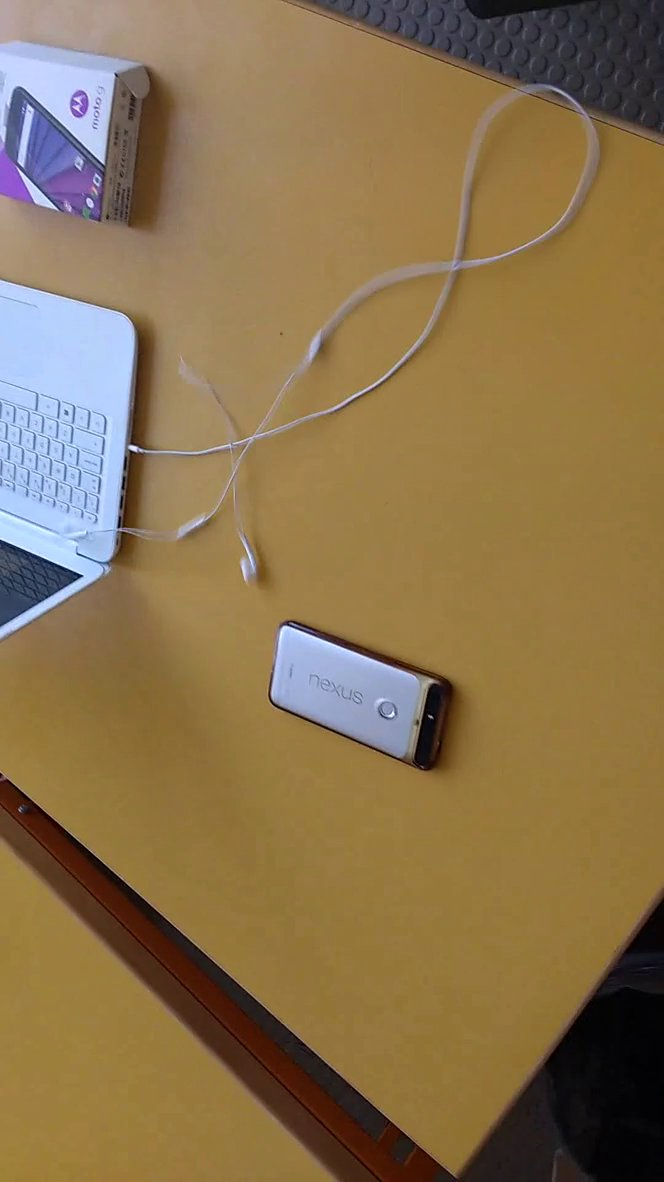phone: (260, 595, 468, 790)
